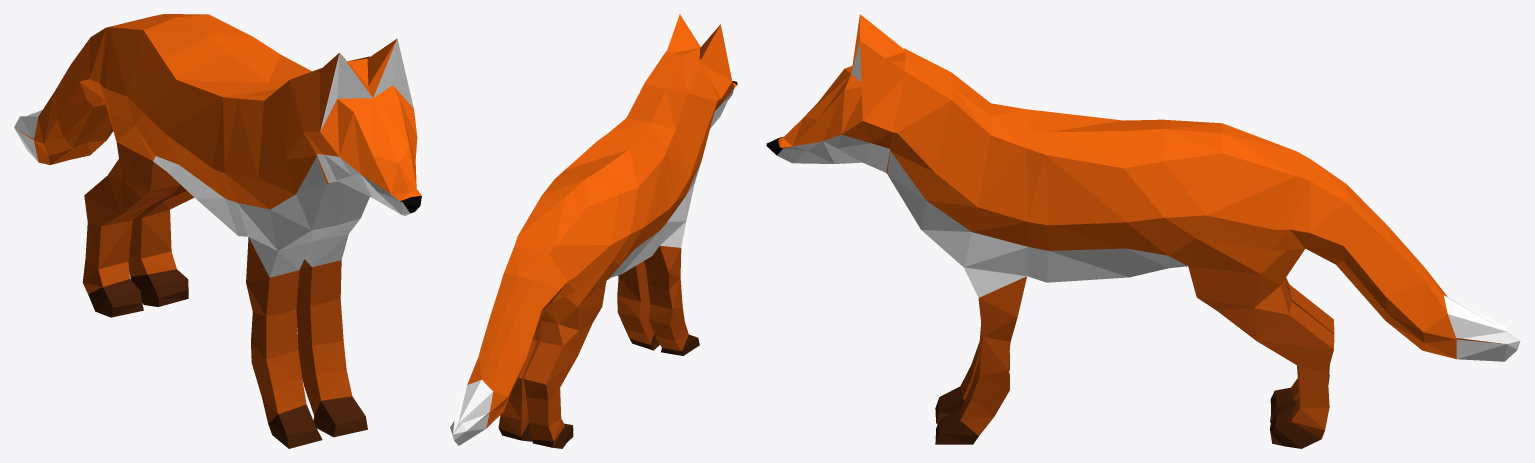
File: LowpolyFox.fbx
3 renders of one model, left to right at view 1: azimuth 30°, elevation 25°; view 2: azimuth 150°, elevation 25°; view 3: azimuth 270°, elevation 25°, orthographic. The views are drawn at different scales.
Visible parts, largest first — view 1: Plane; view 2: Plane; view 3: Plane.
Boxes of the visible parts, x1,y1,x2,y2 form: Plane: (14, 14, 421, 448); Plane: (450, 14, 737, 448); Plane: (766, 14, 1520, 448).
Bounding box in the file's own units: 163 × 539 × 907.
